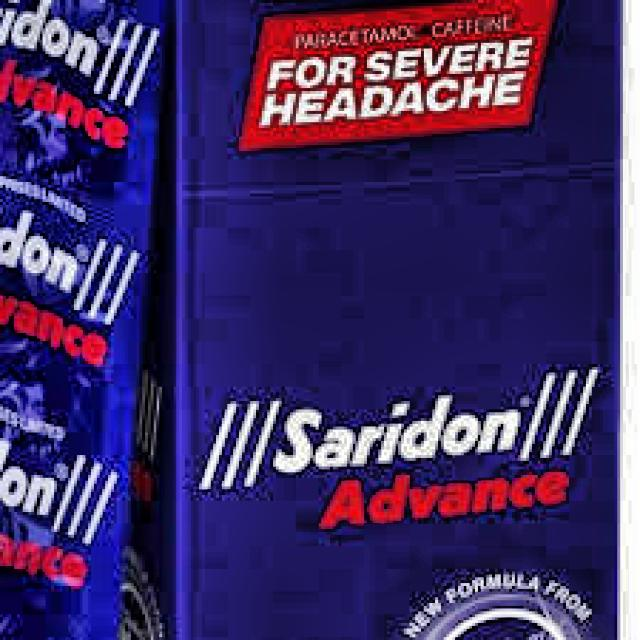Saridon: (191, 374, 611, 490)
